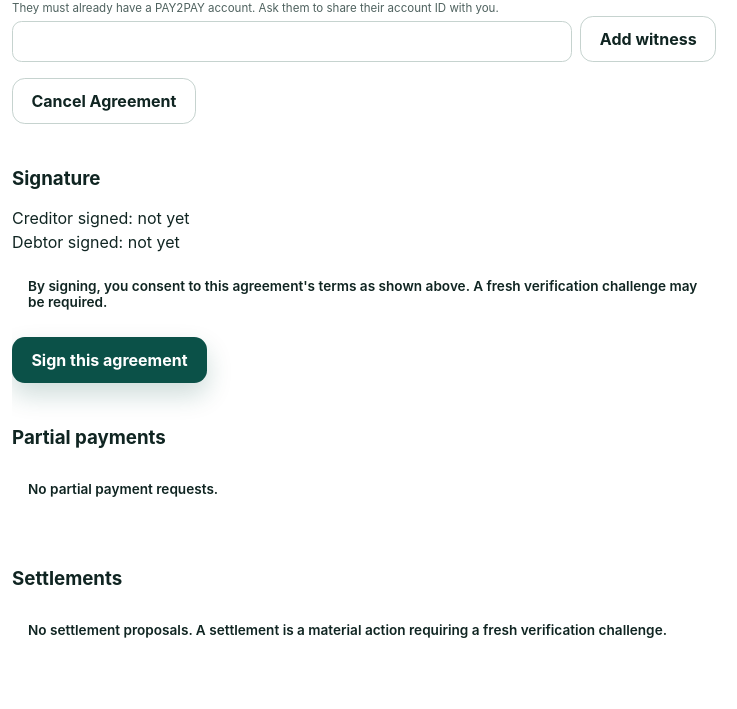
it: AgreementDetail › Problem 2 remediation: shows an inline schedule-revision form (not a dead-end error) when signing fails because the first payment date has already passed, and s
The width and height of the screenshot is (737, 709).
(page scrolled)
Click the button "Sign this agreement" at (109, 360), box [12, 337, 207, 383]
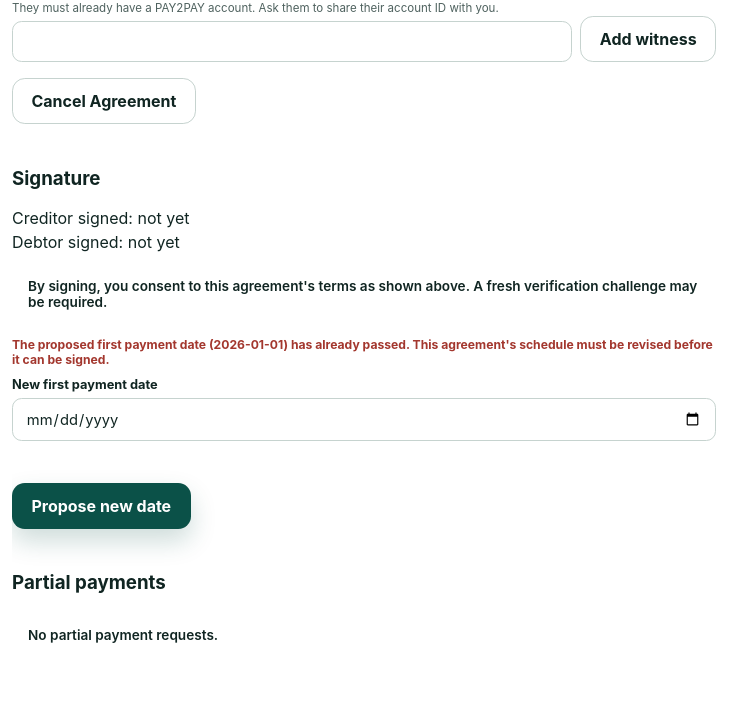
Now the text "already passed" is shown, box [12, 337, 713, 367]
Now the button "Sign this agreement" is gone
Type "2026-12-01" into the date field labelled "New first payment date" at (364, 420), box [12, 398, 716, 441]
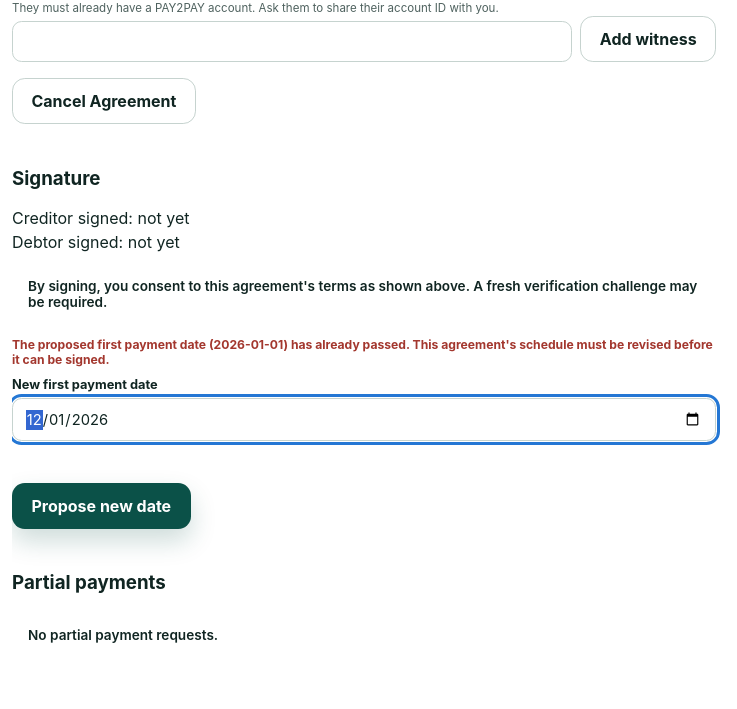
Click the button "Propose new date" at (101, 506), box [12, 482, 190, 528]
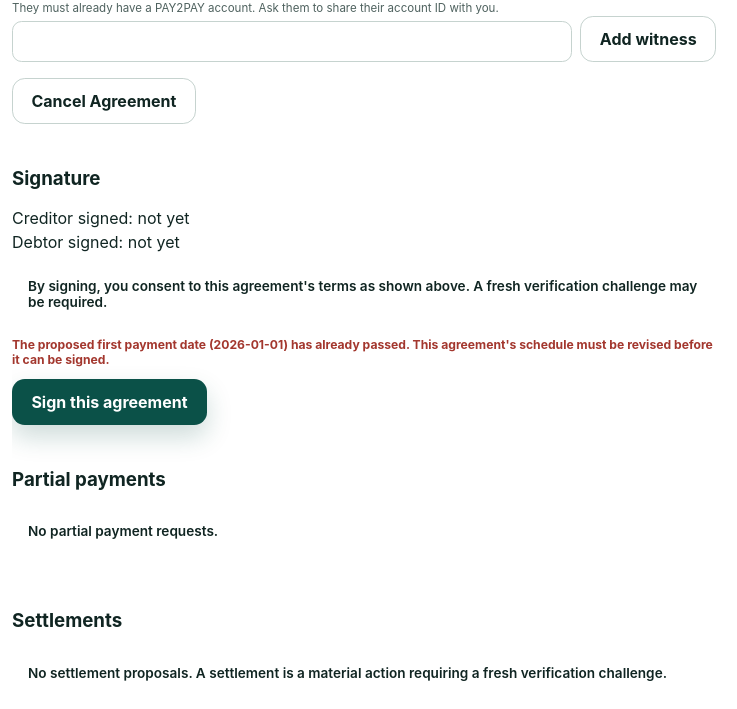
Now the button "Sign this agreement" is shown, box [12, 379, 207, 425]
